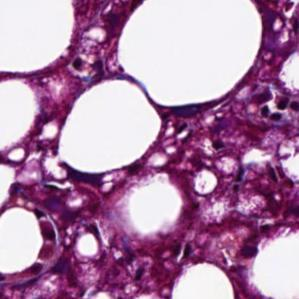inflammation: (248, 82, 299, 128), (110, 244, 153, 285)
